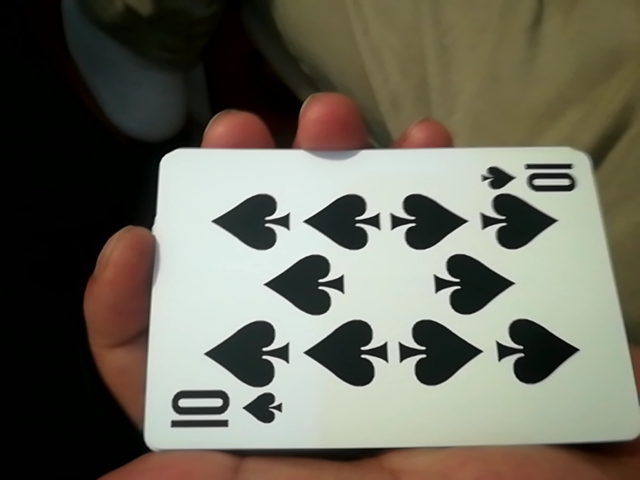ht 10: (131, 140, 617, 461)
